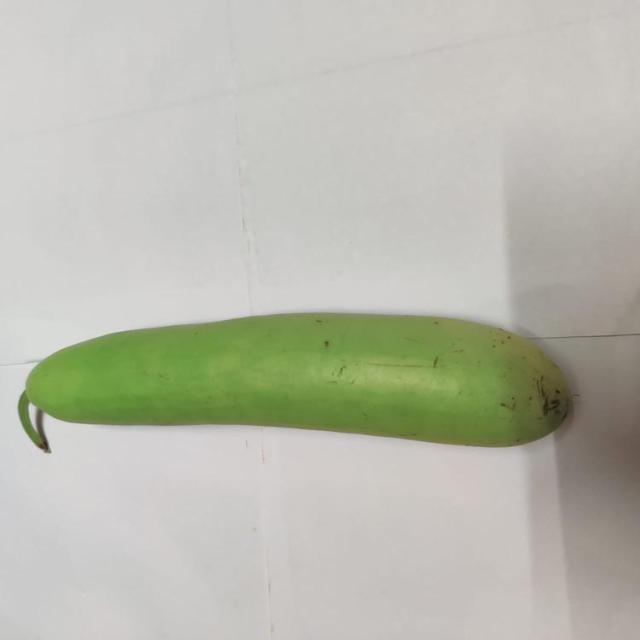Organik: (18, 310, 576, 460)
